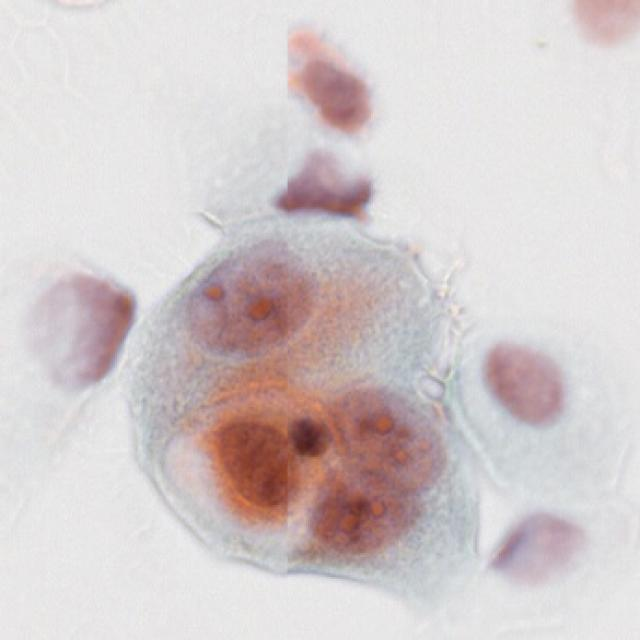cytoplasm: (99, 179, 459, 446), (158, 380, 344, 564)
nucleus: (162, 224, 339, 387), (466, 332, 584, 438), (212, 410, 304, 514)
